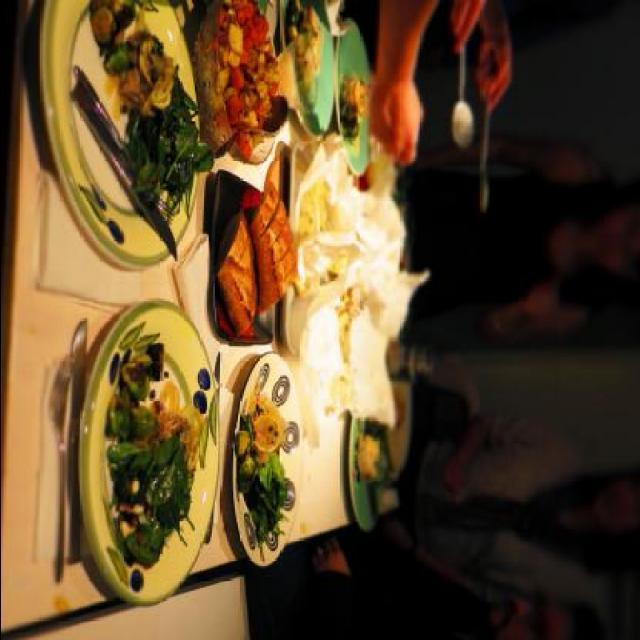Salad: (87, 2, 213, 225), (107, 348, 204, 570), (214, 1, 280, 164), (232, 378, 290, 562)
